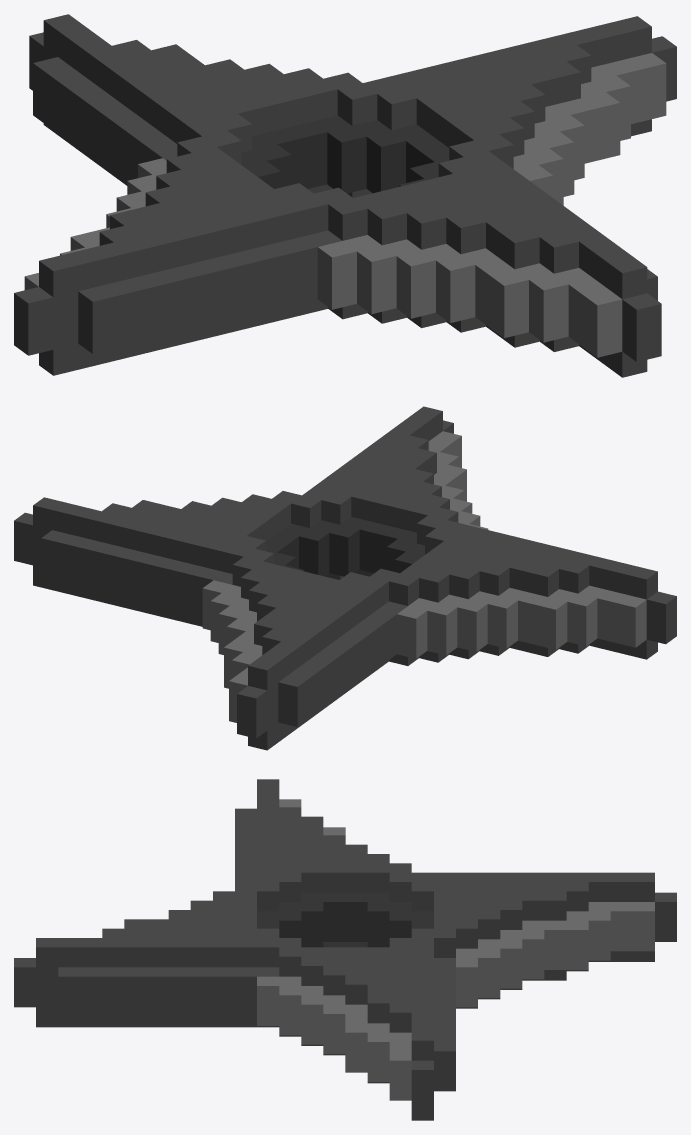
The model's file is Shuriken.obj.
3 views of the same model, one above another, from view 1: azimuth 30°, elevation 25°; view 2: azimuth 150°, elevation 25°; view 3: azimuth 270°, elevation 25° (orthographic). The views are drawn at different scales.
Visible parts, largest first — view 1: Untitled.001; view 2: Untitled.001; view 3: Untitled.001.
Boxes of the visible parts, left/top/right/bottom form: Untitled.001: left=14, top=14, right=676, bottom=377; Untitled.001: left=14, top=406, right=676, bottom=750; Untitled.001: left=14, top=779, right=676, bottom=1120.
Size of the model in its own units: 6 by 0.8 by 6.
Materials: 1 (1 with a texture image).
